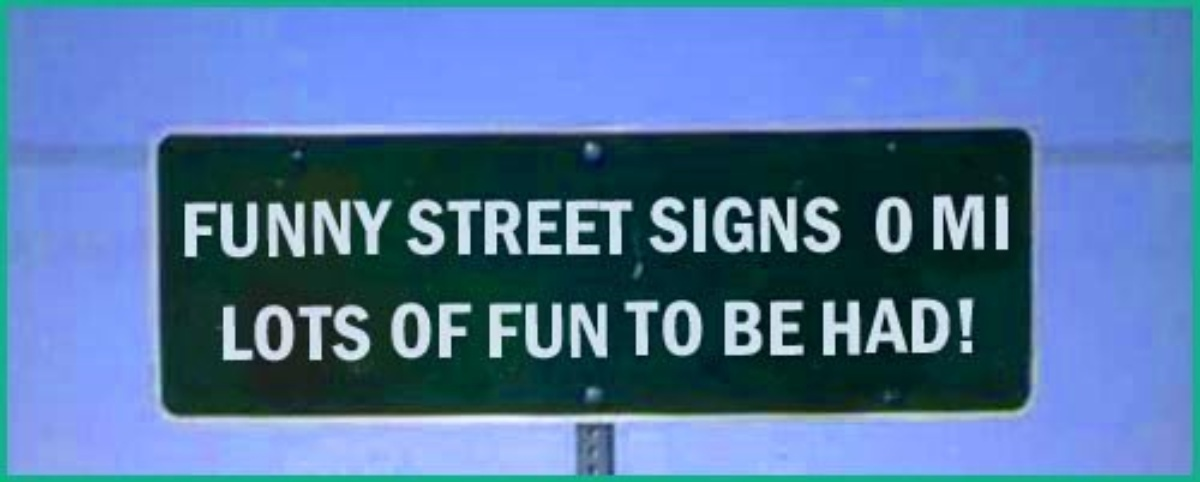text: (193, 195, 208, 259), (209, 195, 224, 259), (225, 195, 240, 259), (241, 195, 256, 259), (257, 195, 272, 259), (273, 195, 288, 259), (289, 195, 304, 259), (305, 195, 320, 259), (321, 195, 336, 259), (337, 195, 352, 259), (353, 195, 368, 259), (369, 195, 384, 259), (961, 295, 977, 355), (497, 300, 512, 363), (513, 300, 528, 363), (529, 300, 544, 363), (545, 300, 560, 363), (561, 300, 576, 363), (577, 300, 592, 363), (593, 300, 608, 363), (401, 300, 416, 360), (417, 300, 432, 360), (433, 300, 448, 360), (449, 300, 464, 360), (657, 195, 672, 255), (673, 195, 688, 255), (689, 195, 704, 255), (705, 195, 720, 255), (721, 195, 736, 255), (737, 195, 752, 255), (753, 195, 768, 255), (769, 195, 784, 255), (785, 195, 800, 255), (801, 195, 816, 255), (817, 195, 832, 255), (881, 195, 896, 255), (897, 195, 912, 255), (945, 192, 960, 252), (961, 192, 976, 252), (977, 192, 992, 252), (993, 192, 1008, 252), (417, 197, 432, 257), (433, 197, 448, 257), (449, 197, 464, 257), (465, 197, 480, 257), (481, 197, 496, 257), (497, 197, 512, 257), (513, 197, 528, 257), (529, 197, 544, 257), (545, 197, 560, 257), (561, 197, 576, 257), (577, 197, 592, 257), (593, 197, 608, 257), (609, 197, 624, 257), (225, 303, 240, 363), (241, 303, 256, 363), (257, 303, 272, 363), (273, 303, 288, 363), (289, 303, 304, 363), (305, 303, 320, 363), (321, 303, 336, 363), (337, 303, 352, 363), (353, 303, 368, 363), (625, 298, 640, 358), (641, 298, 656, 358), (657, 298, 672, 358), (673, 298, 688, 358), (689, 298, 704, 358), (721, 298, 736, 358), (737, 298, 752, 358), (753, 298, 768, 358), (769, 298, 784, 358), (785, 298, 800, 358), (833, 295, 848, 355), (849, 295, 864, 355), (865, 295, 880, 355), (881, 295, 896, 355), (897, 295, 912, 355), (913, 295, 928, 355), (929, 295, 944, 355), (945, 295, 960, 355), (385, 195, 399, 259), (819, 295, 832, 355), (932, 192, 944, 252), (389, 300, 400, 360), (833, 195, 843, 255), (406, 197, 416, 257), (183, 195, 192, 259), (625, 197, 634, 257), (488, 300, 496, 363), (465, 300, 473, 360), (872, 195, 880, 255), (649, 195, 656, 255), (801, 298, 807, 358), (609, 300, 613, 363), (1009, 192, 1013, 252), (369, 303, 373, 363), (705, 298, 709, 358), (221, 303, 224, 363), (913, 195, 915, 255), (622, 298, 624, 358), (718, 298, 720, 358)
